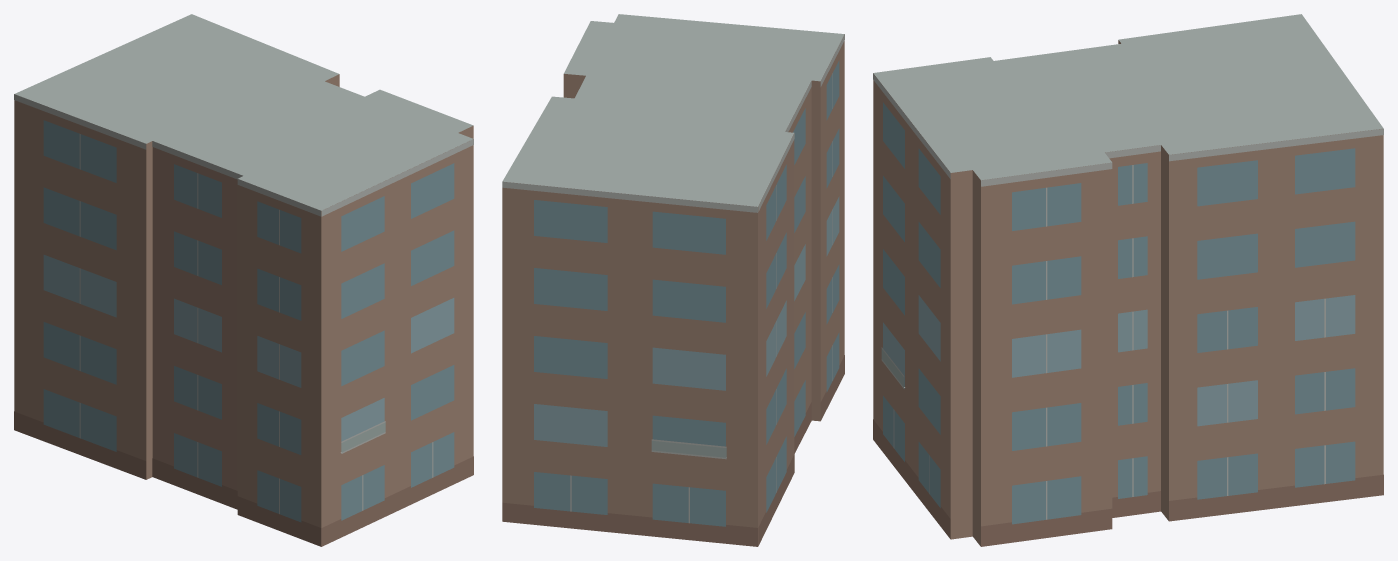
The model's file is survey-upis-32617781.glb.
3 views of the same model, side by side, from view 1: azimuth 30°, elevation 25°; view 2: azimuth 150°, elevation 25°; view 3: azimuth 270°, elevation 25° (orthographic). The views are drawn at different scales.
Parts seen in each view (by area): view 1: survey-upis-32617781.tmp; view 2: survey-upis-32617781.tmp; view 3: survey-upis-32617781.tmp.
Part boxes in pixels (<box>): survey-upis-32617781.tmp: <box>14,14,473,546</box>; survey-upis-32617781.tmp: <box>502,14,844,546</box>; survey-upis-32617781.tmp: <box>873,14,1383,546</box>.
Size of the model in its own units: 13.34 by 13.7 by 17.31.
